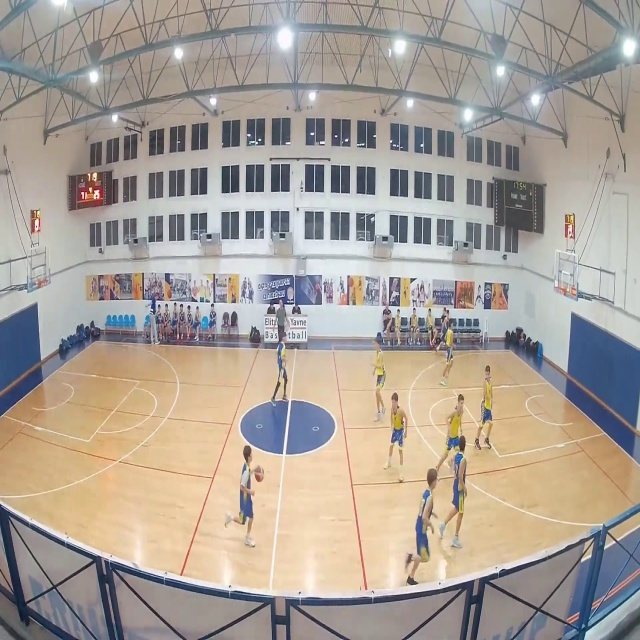Basketball: (253, 466, 264, 482)
